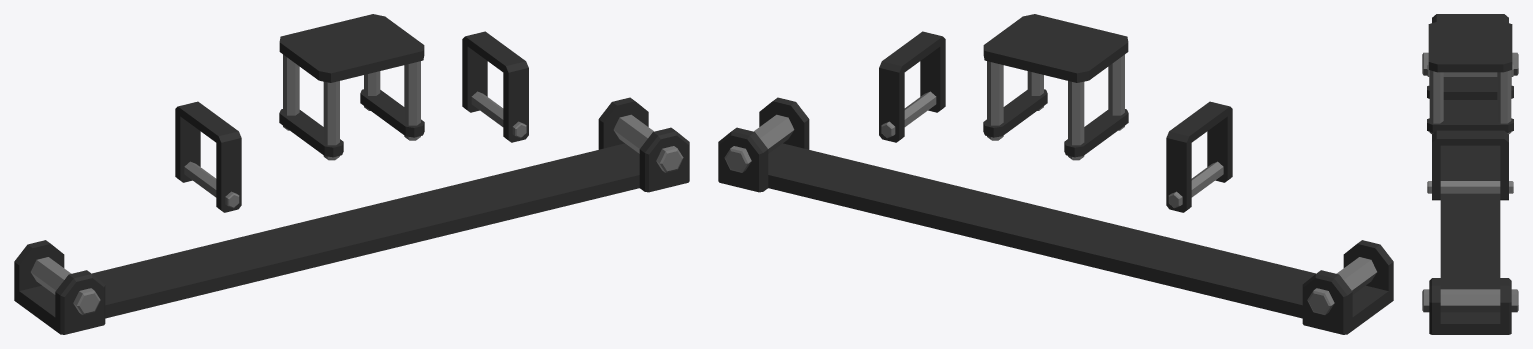
Rendered from TanHuang_GangBan_2X7_off.FBX.
3 renders of one model, left to right at view 1: azimuth 30°, elevation 25°; view 2: azimuth 150°, elevation 25°; view 3: azimuth 270°, elevation 25°, orthographic. The views are drawn at different scales.
Parts seen in each view (by area): view 1: Box080; view 2: Box080; view 3: Box080.
Part boxes in pixels (x1=…): Box080: x1=14, y1=14, x2=689, y2=334; Box080: x1=718, y1=14, x2=1393, y2=334; Box080: x1=1422, y1=14, x2=1518, y2=334.
Bounding box in the file's own units: 7 × 2.09 × 1.11.
